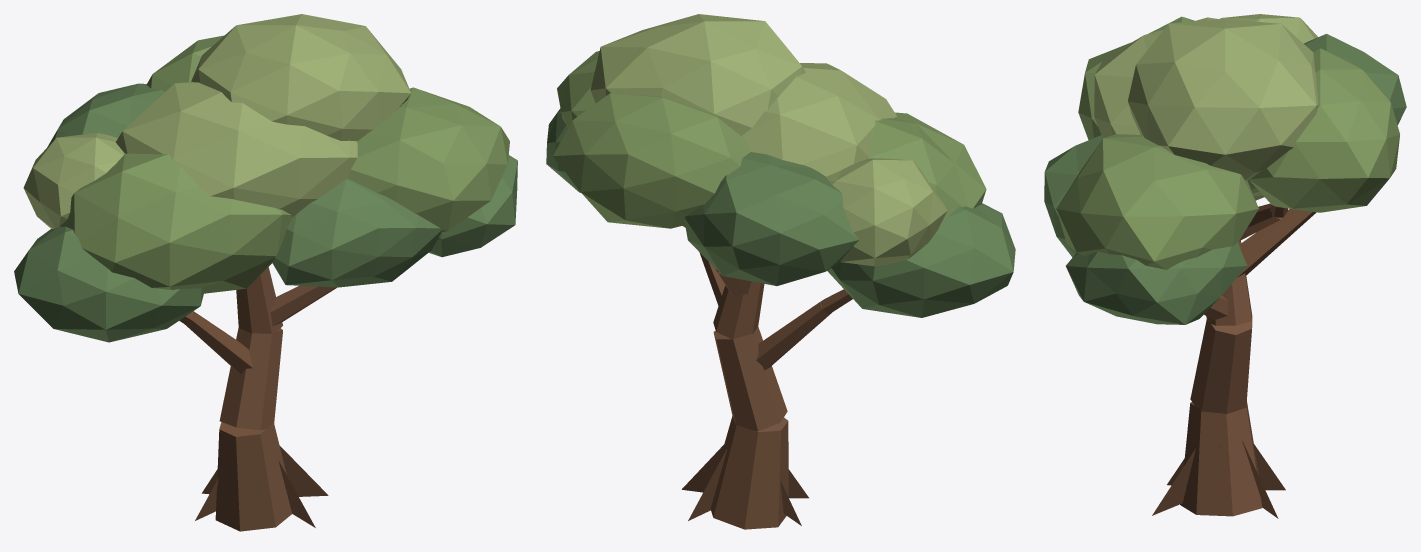
The model's file is oak.glb.
3 views of the same model, side by side, from view 1: azimuth 30°, elevation 25°; view 2: azimuth 150°, elevation 25°; view 3: azimuth 270°, elevation 25° (orthographic). The views are drawn at different scales.
Parts seen in each view (by area): view 1: foliage-0, foliage-1, foliage-2, surface; view 2: foliage-0, foliage-1, surface, foliage-2; view 3: foliage-1, foliage-0, surface, foliage-2.
Part boxes in pixels (box(x1,y1,x2,y2)): foliage-0: box(14, 14, 411, 342); foliage-1: box(60, 35, 509, 293); foliage-2: box(115, 81, 517, 287); surface: box(179, 267, 337, 531); foliage-0: box(590, 14, 1015, 317); foliage-1: box(553, 51, 986, 228); surface: box(682, 225, 852, 529); foliage-2: box(546, 63, 896, 192); foliage-1: box(1056, 16, 1399, 269); foliage-0: box(1128, 14, 1406, 180); surface: box(1152, 203, 1316, 518); foliage-2: box(1044, 17, 1264, 324).
Bounding box in the file's own units: 6.26 × 5.99 × 3.93.
